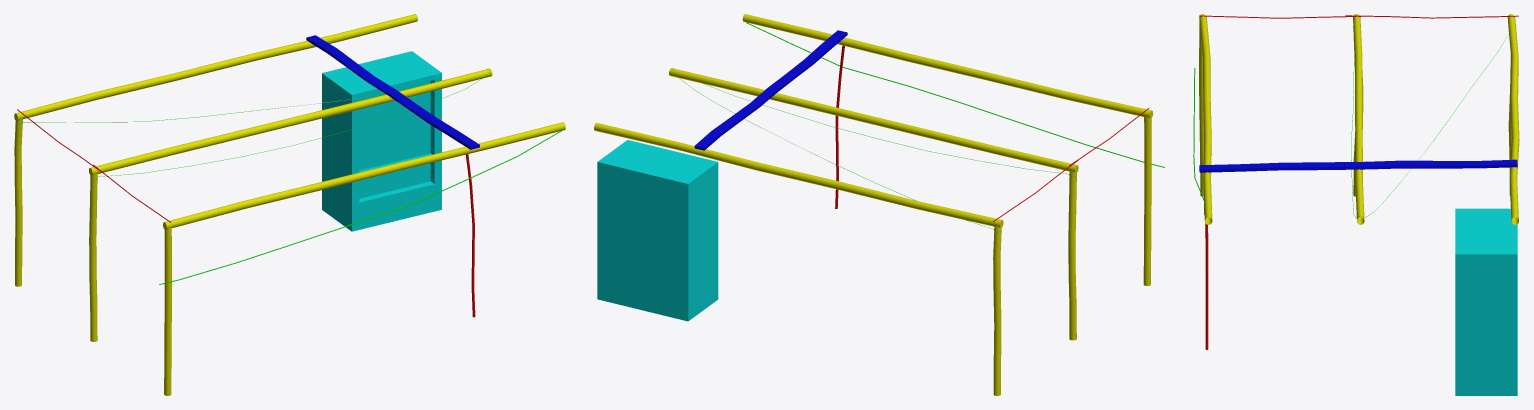
The model's file is Rooftop Vineyard holder.fbx.
3 renders of one model, left to right at view 1: azimuth 30°, elevation 25°; view 2: azimuth 150°, elevation 25°; view 3: azimuth 270°, elevation 25°, orthographic. The views are drawn at different scales.
Visible parts, largest first — view 1: VineyardRoofHolder; view 2: VineyardRoofHolder; view 3: VineyardRoofHolder.
Part boxes in pixels (left/top/right/bottom): VineyardRoofHolder: left=14, top=14, right=565, bottom=395; VineyardRoofHolder: left=594, top=14, right=1164, bottom=395; VineyardRoofHolder: left=1193, top=14, right=1519, bottom=395.
Size of the model in its own units: 611 by 250 by 405.
